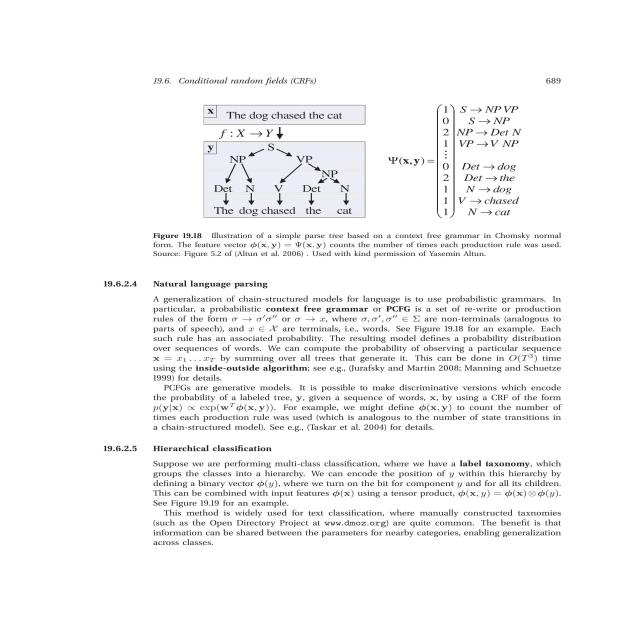diagram: (89, 98, 640, 272)
